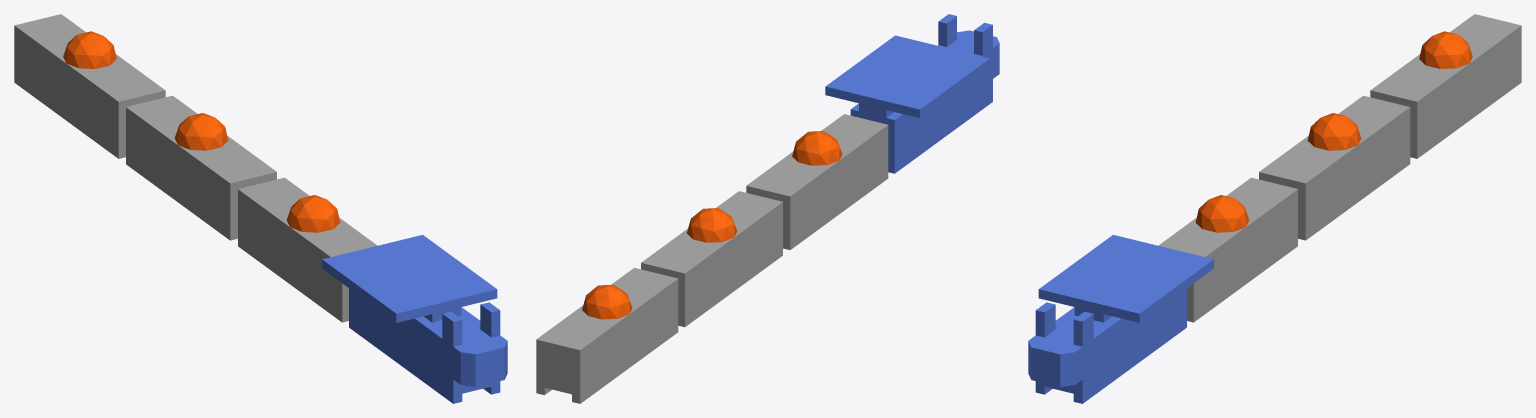
Rendered from space-train-forward-z.fbx.
3 views of the same model, side by side, from view 1: azimuth 30°, elevation 25°; view 2: azimuth 150°, elevation 25°; view 3: azimuth 330°, elevation 25° (orthographic). The views are drawn at different scales.
Visible parts, largest first — view 1: train-engine, train-body, train-body.002, train-body.001, turret-body, turret-body.001, turret-body.002; view 2: train-engine, train-body.002, train-body.001, train-body, turret-body.001, turret-body, turret-body.002; view 3: train-engine, train-body, train-body.002, train-body.001, turret-body, turret-body.001, turret-body.002.
Part boxes in pixels (box(x1,y1,x2,y2)): train-engine: box(322, 235, 507, 403); train-body: box(126, 95, 276, 240); train-body.002: box(14, 14, 165, 158); train-body.001: box(238, 177, 377, 322); turret-body: box(174, 113, 228, 150); turret-body.001: box(286, 195, 340, 232); turret-body.002: box(63, 31, 116, 68); train-engine: box(825, 14, 999, 173); train-body.002: box(536, 268, 678, 403); train-body.001: box(746, 114, 888, 249); train-body: box(641, 191, 782, 327); turret-body.001: box(792, 131, 842, 165); turret-body: box(687, 208, 737, 242); turret-body.002: box(582, 284, 632, 319); train-engine: box(1028, 235, 1213, 403); train-body: box(1259, 95, 1410, 240); train-body.002: box(1370, 14, 1521, 158); train-body.001: box(1158, 177, 1297, 322); turret-body: box(1307, 113, 1361, 150); turret-body.001: box(1195, 195, 1249, 232); turret-body.002: box(1419, 31, 1472, 68).
Size of the model in its own units: 430 by 335 by 3340.
